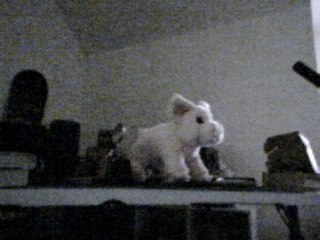piggy: (128, 91, 227, 185)
